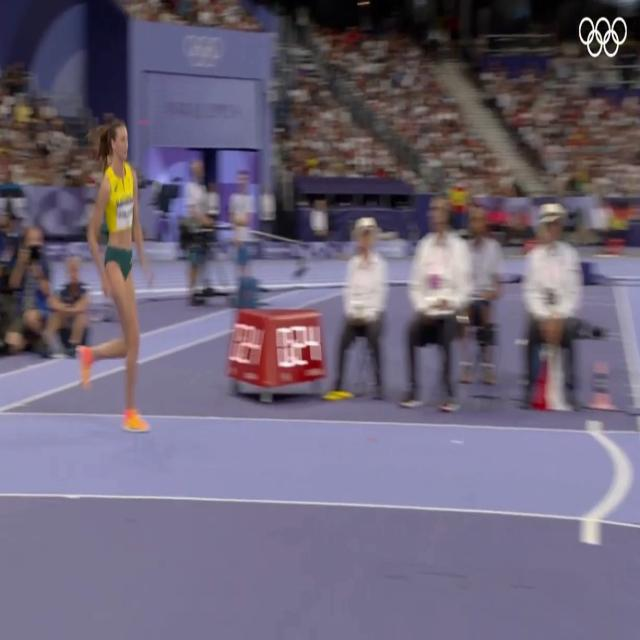run: (77, 114, 151, 438)
